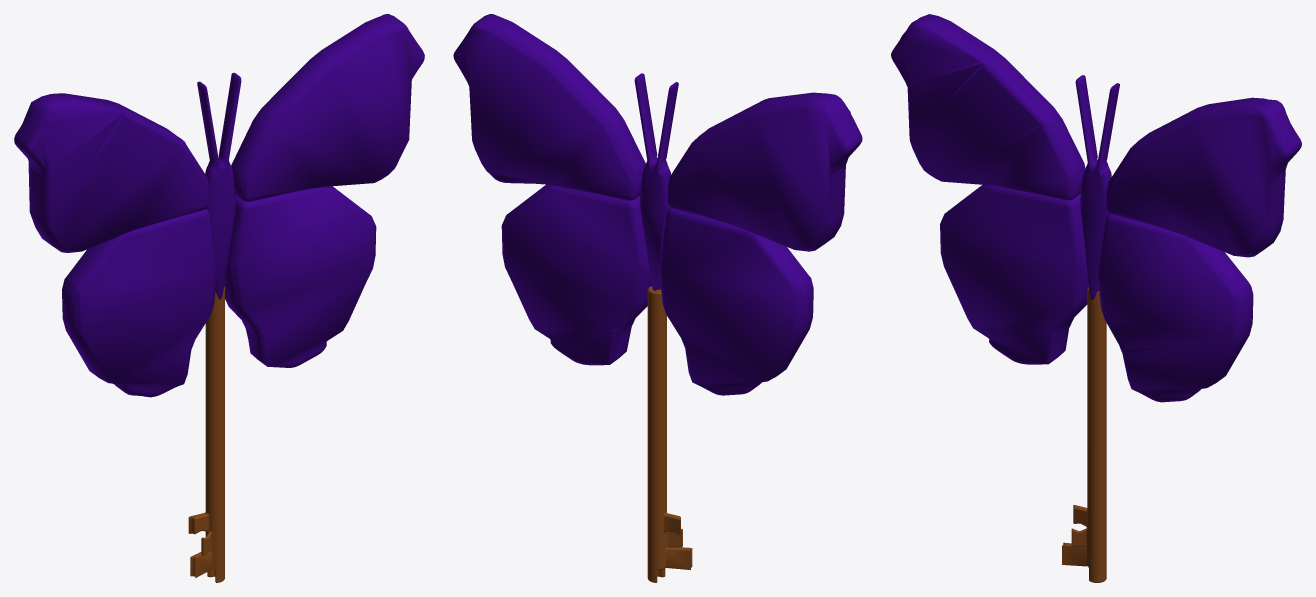
The model's file is cle_papillon_sens_2_chamfer_v1.fbx.
The picture shows the model from 3 angles, left to right: view 1: azimuth 30°, elevation 25°; view 2: azimuth 150°, elevation 25°; view 3: azimuth 330°, elevation 25°; orthographic projection.
Parts seen in each view (by area): view 1: Box003; view 2: Box003; view 3: Box003.
Boxes of the visible parts, x1,y1,x2,y2 form: Box003: [14, 14, 424, 582]; Box003: [453, 14, 862, 582]; Box003: [891, 14, 1301, 582].
Size of the model in its own units: 9.28 by 11.63 by 0.7319.
